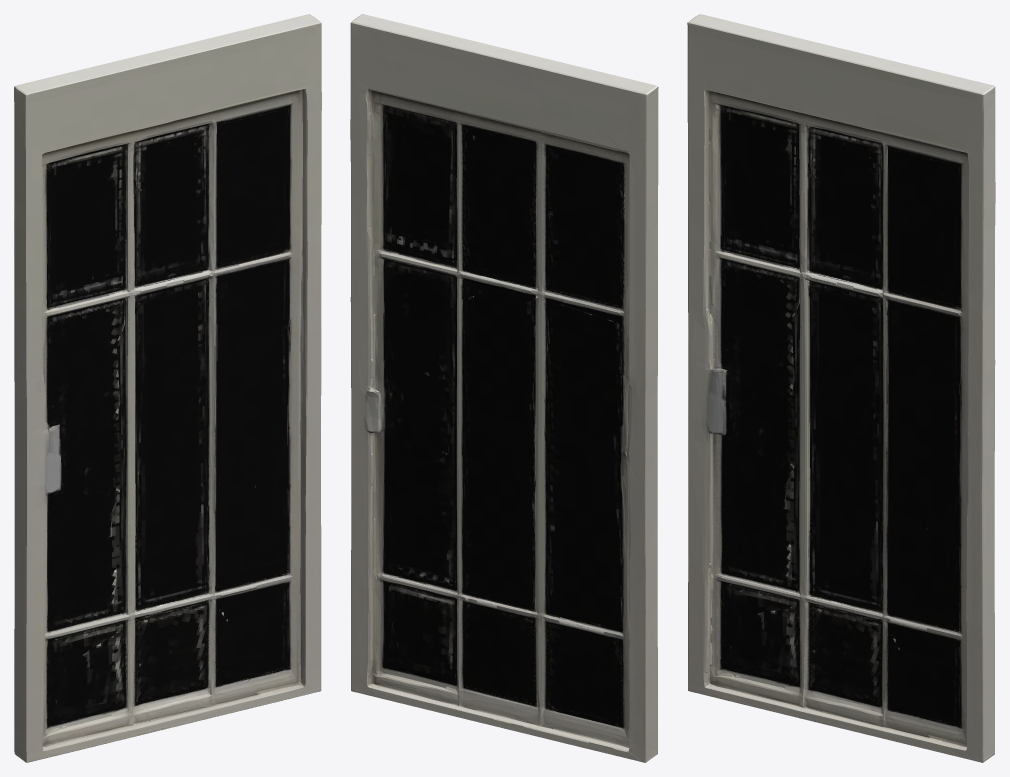
3 views of the same model, side by side, from view 1: azimuth 30°, elevation 25°; view 2: azimuth 150°, elevation 25°; view 3: azimuth 330°, elevation 25° (orthographic).
Visible parts, largest first — view 1: world; view 2: world; view 3: world.
Part boxes in pixels (x1,y1,x2,y2): world: [14, 14, 321, 762]; world: [350, 14, 658, 762]; world: [687, 14, 995, 762].
Size of the model in its own units: 0.4645 by 1 by 0.036.
Materials: 1 (1 with a texture image).
